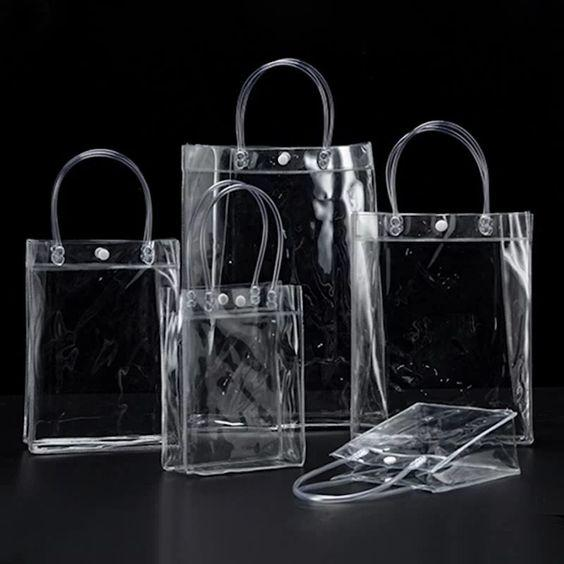PVC: (0, 7, 564, 564)
